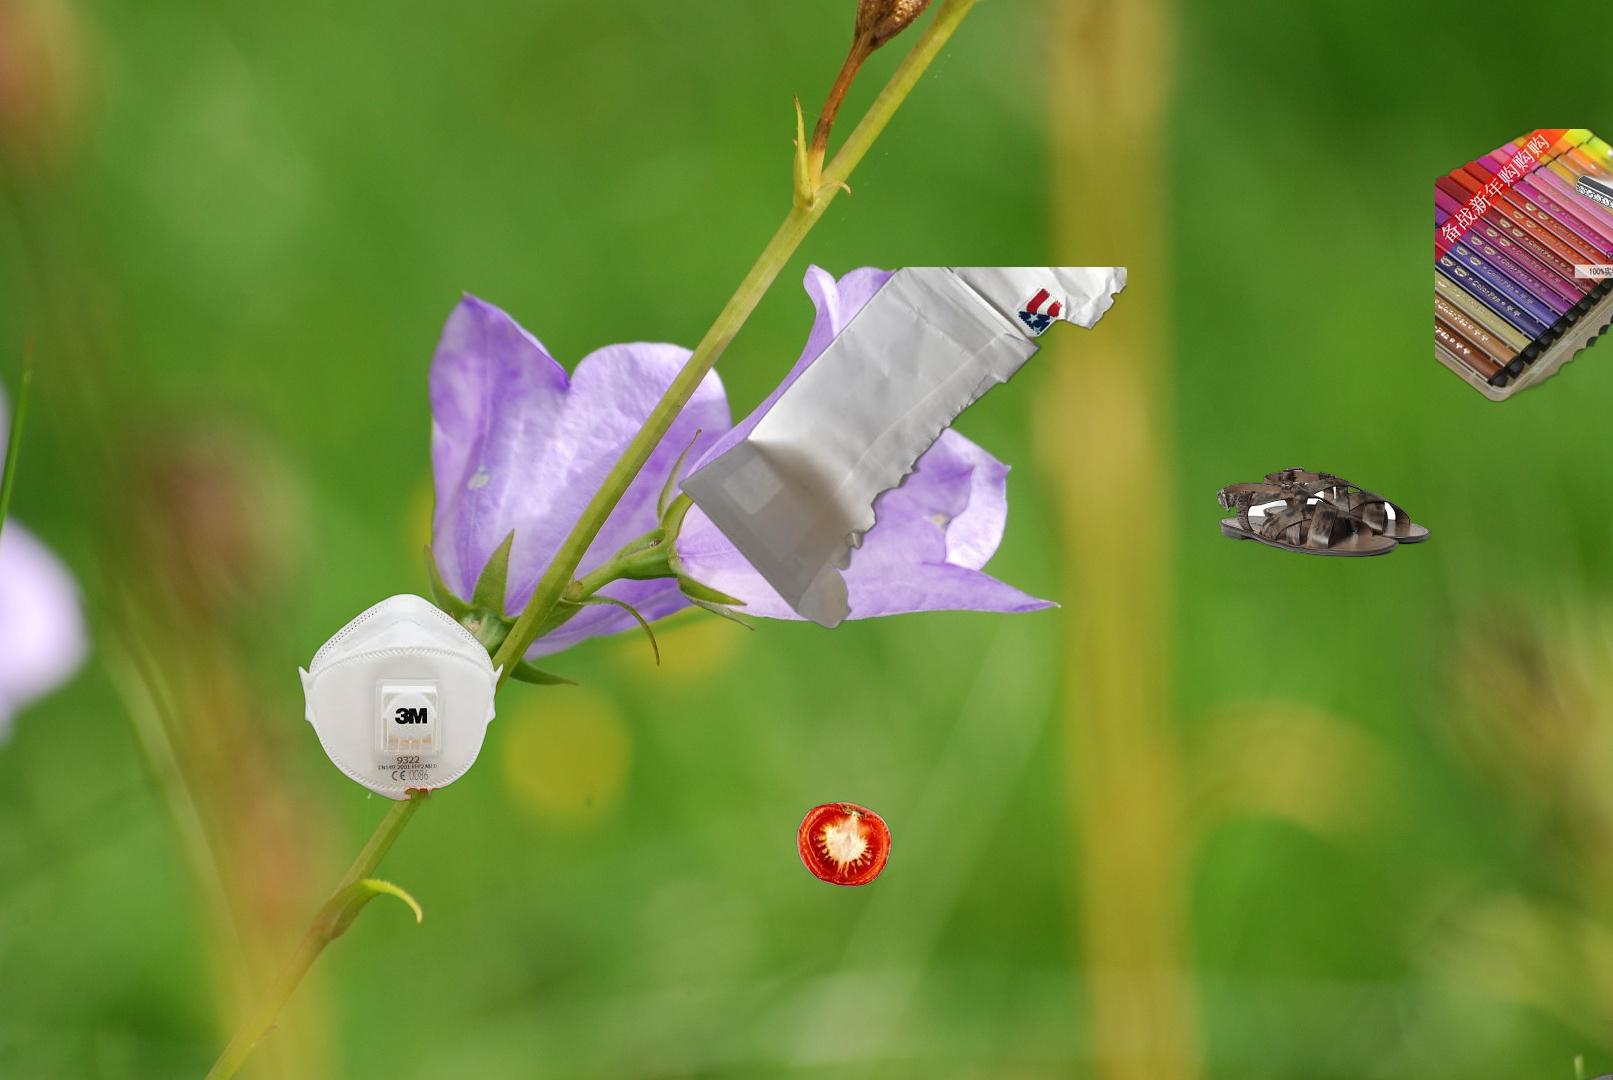battery: (1573, 116, 1613, 278)
biological: (794, 799, 895, 890)
clothes: (1489, 1020, 1613, 1080)
paper: (674, 268, 1127, 632)
penholder: (1435, 129, 1613, 419)
shoes: (1218, 464, 1435, 560)
trash: (295, 591, 506, 808)
